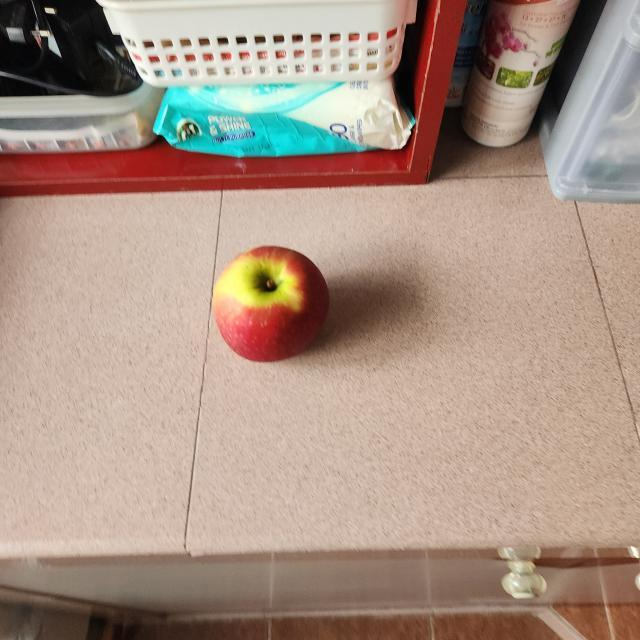apple: (210, 240, 338, 366)
